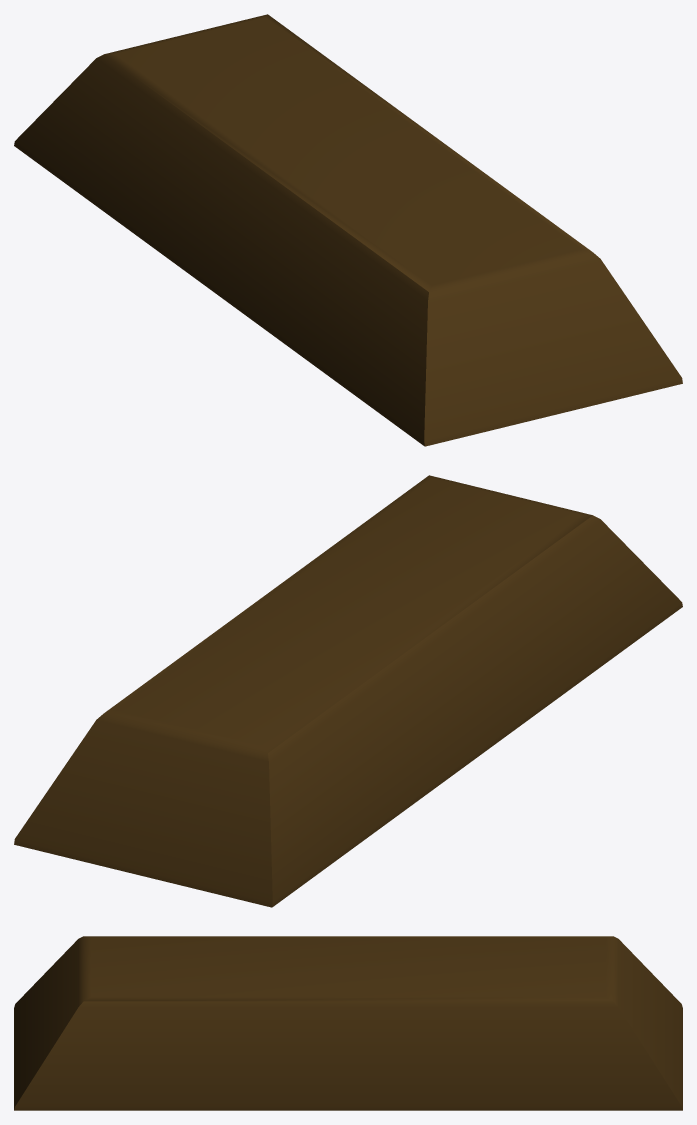
The model's file is copper bar unwrapped.fbx.
3 views of the same model, one above another, from view 1: azimuth 30°, elevation 25°; view 2: azimuth 150°, elevation 25°; view 3: azimuth 270°, elevation 25° (orthographic). The views are drawn at different scales.
Visible parts, largest first — view 1: Copper Bar; view 2: Copper Bar; view 3: Copper Bar.
Part boxes in pixels (bbox=[...]): Copper Bar: bbox=[14, 14, 682, 446]; Copper Bar: bbox=[14, 475, 682, 907]; Copper Bar: bbox=[14, 936, 682, 1110].
Bounding box in the file's own units: 5.39 × 2.29 × 14.85.
